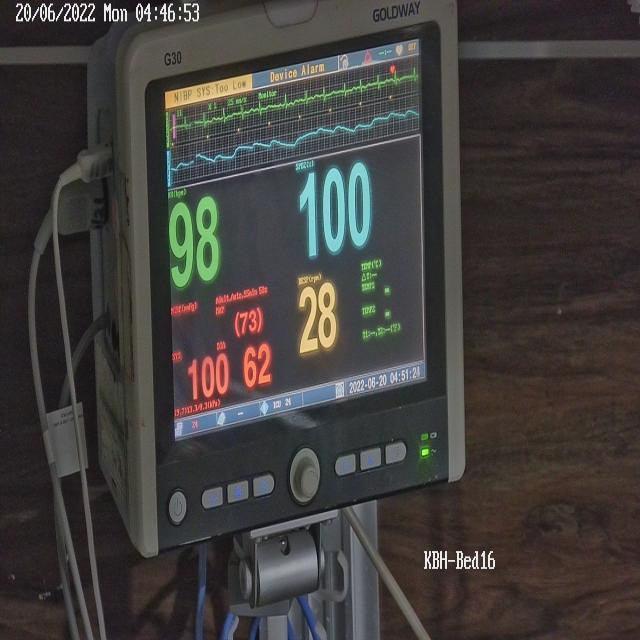Monitor: (30, 4, 472, 640)
